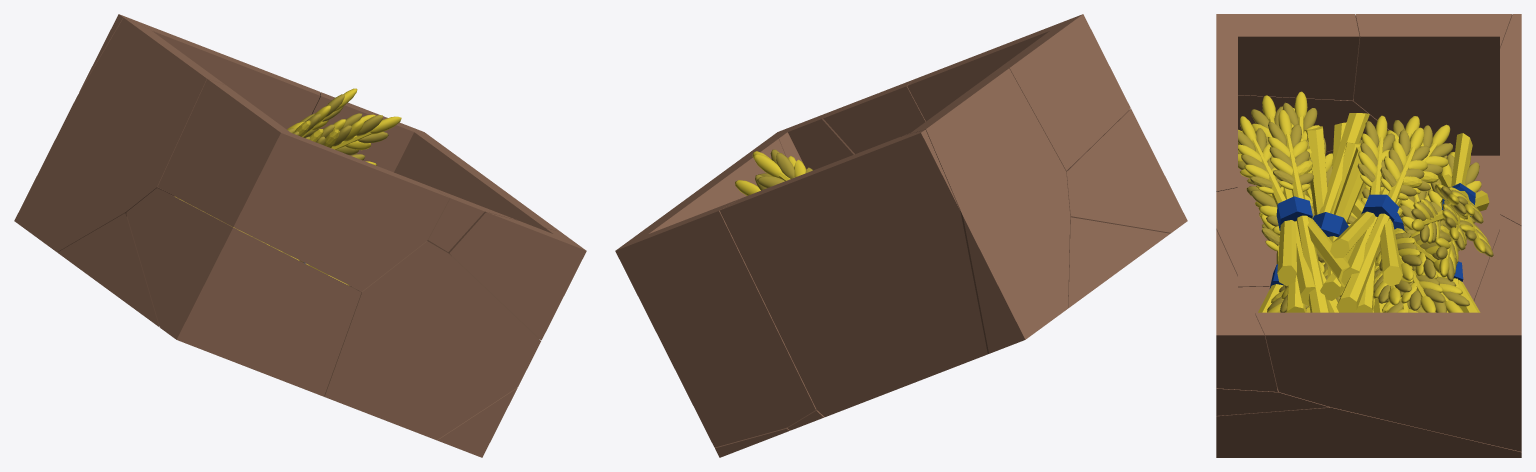
The model's file is WheatBoxBroken.fbx.
The picture shows the model from 3 angles, left to right: view 1: azimuth 30°, elevation 25°; view 2: azimuth 150°, elevation 25°; view 3: azimuth 270°, elevation 25°; orthographic projection. The views are drawn at different scales.
Visible parts, largest first — view 1: Cube.057_cell.003, Cube.057_cell.002, Cube.057_cell.001, Cube.057_cell, Cube.057_cell.008, Cube.057_cell.006, Cube.057_cell.005, Cube.057_cell.007, Cylinder.123, Cube.057_cell.004, Cube.057_cell.009; view 2: Cube.057_cell.005, Cube.057_cell.006, Cube.057_cell, Cube.057_cell.003, Cube.057_cell.002, Cube.057_cell.007, Cube.057_cell.009, Cube.057_cell.008, Cylinder.123, Cube.057_cell.004; view 3: Cube.057_cell.006, Cube.057_cell, Cube.057_cell.003, Cylinder.125, Cylinder.124, Cube.057_cell.004, Cylinder.046, Cube.057_cell.005, Cube.057_cell.008, Cylinder.123, Cube.057_cell.002, Cylinder.045 (+6 smaller).
Part boxes in pixels (x1=…): Cube.057_cell.003: x1=157, y1=79, x2=449, y2=291; Cube.057_cell.002: x1=126, y1=188, x2=361, y2=396; Cube.057_cell.001: x1=324, y1=241, x2=540, y2=440; Cube.057_cell: x1=14, y1=18, x2=225, y2=252; Cube.057_cell.008: x1=449, y1=212, x2=586, y2=340; Cube.057_cell.006: x1=309, y1=92, x2=560, y2=231; Cube.057_cell.005: x1=79, y1=14, x2=320, y2=129; Cube.057_cell.007: x1=57, y1=213, x2=158, y2=326; Cylinder.123: x1=175, y1=88, x2=401, y2=202; Cube.057_cell.004: x1=437, y1=387, x2=517, y2=457; Cube.057_cell.009: x1=427, y1=188, x2=517, y2=255; Cube.057_cell.005: x1=719, y1=129, x2=987, y2=416; Cube.057_cell.006: x1=615, y1=139, x2=816, y2=447; Cube.057_cell: x1=901, y1=68, x2=1070, y2=353; Cube.057_cell.003: x1=907, y1=14, x2=1130, y2=170; Cube.057_cell.002: x1=1066, y1=109, x2=1187, y2=233; Cube.057_cell.007: x1=1068, y1=217, x2=1169, y2=307; Cube.057_cell.009: x1=823, y1=79, x2=925, y2=154; Cube.057_cell.008: x1=752, y1=94, x2=875, y2=170; Cylinder.123: x1=735, y1=149, x2=812, y2=195; Cube.057_cell.004: x1=715, y1=428, x2=789, y2=457; Cube.057_cell.006: x1=1255, y1=215, x2=1521, y2=451; Cube.057_cell: x1=1353, y1=14, x2=1512, y2=300; Cube.057_cell.003: x1=1216, y1=14, x2=1359, y2=191; Cylinder.125: x1=1238, y1=91, x2=1349, y2=312; Cylinder.124: x1=1320, y1=115, x2=1453, y2=312; Cube.057_cell.004: x1=1216, y1=407, x2=1521, y2=457; Cylinder.046: x1=1267, y1=113, x2=1369, y2=312; Cube.057_cell.005: x1=1474, y1=14, x2=1521, y2=312; Cube.057_cell.008: x1=1216, y1=230, x2=1277, y2=391; Cylinder.123: x1=1411, y1=133, x2=1493, y2=281; Cube.057_cell.002: x1=1238, y1=95, x2=1404, y2=287; Cylinder.045: x1=1352, y1=193, x2=1469, y2=312.
Size of the model in its own units: 133 by 116 by 90.87.
